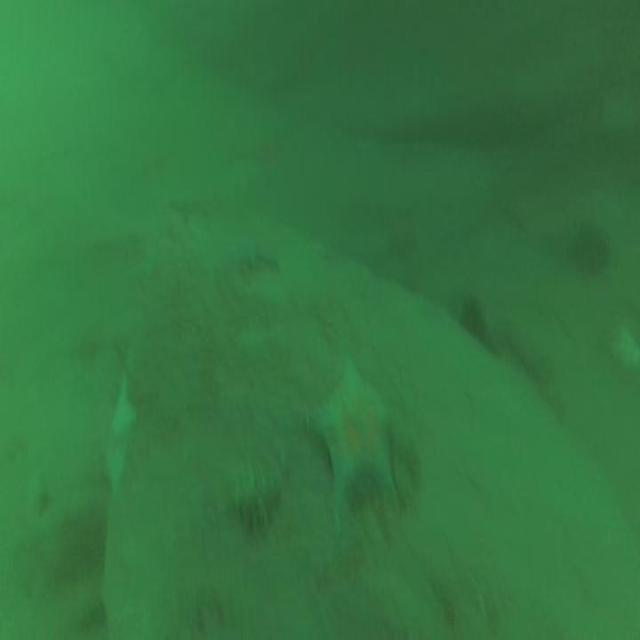echinus: (567, 212, 612, 289), (456, 289, 490, 346)
holothurian: (230, 468, 286, 534)
starfish: (309, 345, 407, 526), (229, 232, 279, 280)
